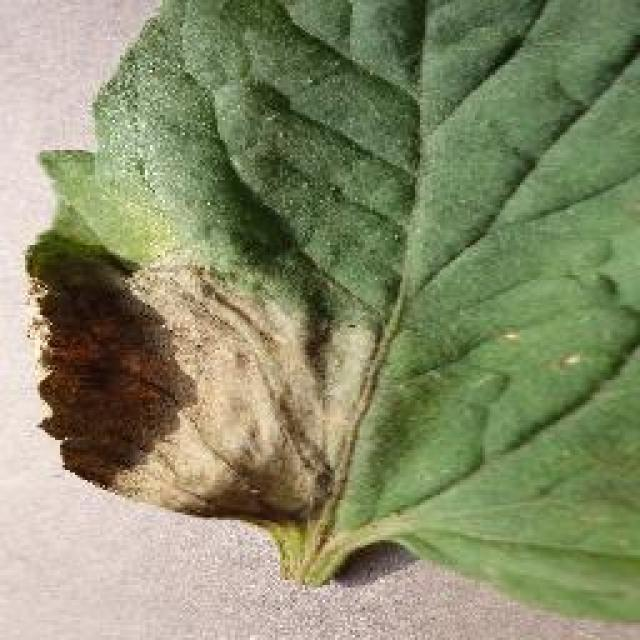Tomato late blight leaf: (22, 0, 639, 622)
